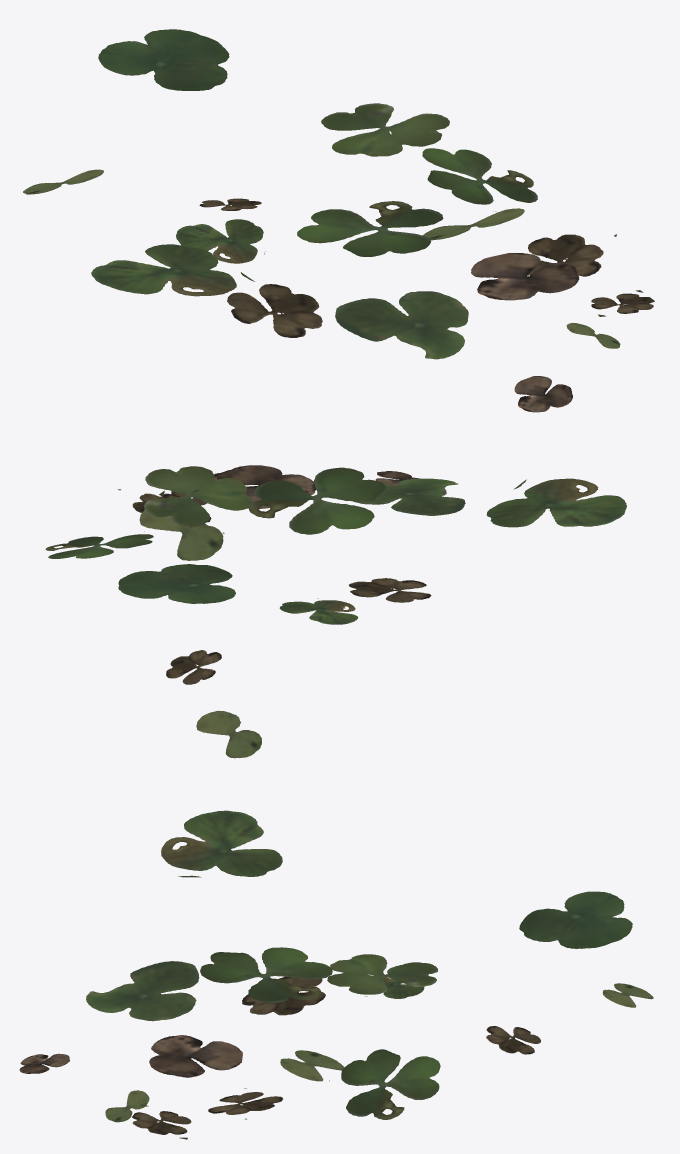
The model's file is arden_forest_sorrel_02_foliage.fbx.
The picture shows the model from 3 angles, top to bottom: view 1: azimuth 30°, elevation 25°; view 2: azimuth 150°, elevation 25°; view 3: azimuth 270°, elevation 25°; orthographic projection. The views are drawn at different scales.
Visible parts, largest first — view 1: arden_forest_sorrel_02_foliage; view 2: arden_forest_sorrel_02_foliage; view 3: arden_forest_sorrel_02_foliage.
Part boxes in pixels (<box>): arden_forest_sorrel_02_foliage: <box>23,29,654,412</box>; arden_forest_sorrel_02_foliage: <box>45,465,626,758</box>; arden_forest_sorrel_02_foliage: <box>19,810,653,1139</box>.
Size of the model in its own units: 55.74 by 14.07 by 64.43.
